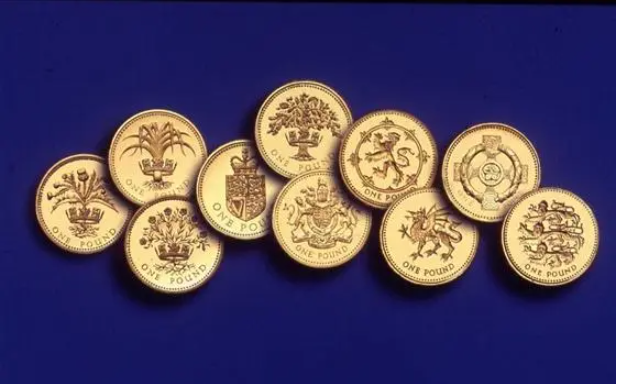coin: (440, 117, 543, 223), (32, 153, 134, 258), (254, 76, 355, 182), (271, 169, 372, 271), (335, 108, 438, 208), (500, 186, 600, 287), (124, 197, 225, 294), (380, 187, 478, 286), (109, 108, 208, 204), (195, 138, 282, 240)
